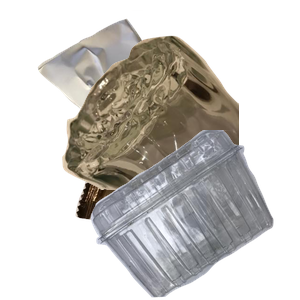glass: (60, 33, 300, 213)
paper: (35, 10, 237, 178)
plastic: (88, 130, 300, 300)
trash: (73, 171, 242, 300)
